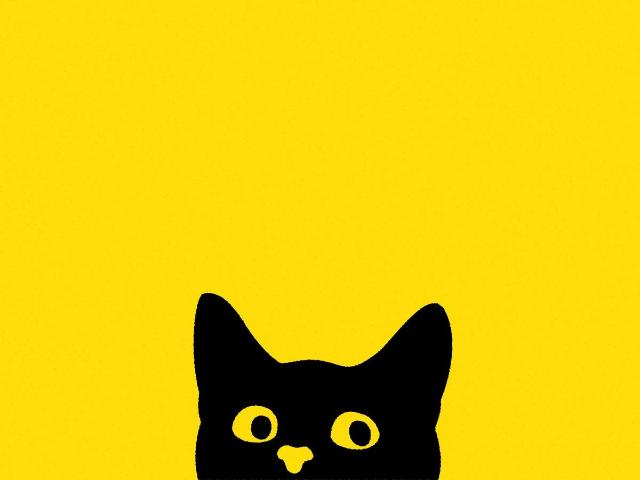cat: (195, 294, 453, 480)
